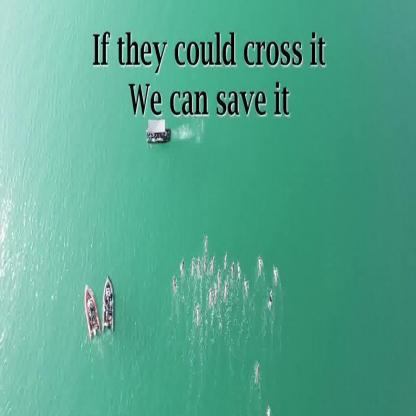Boat: (102, 279, 118, 330), (82, 284, 98, 334)
